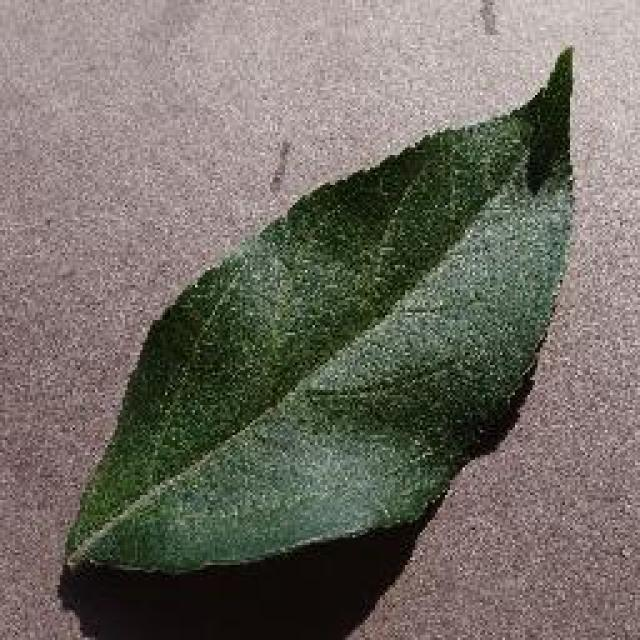apple healthy: (60, 42, 580, 588)
